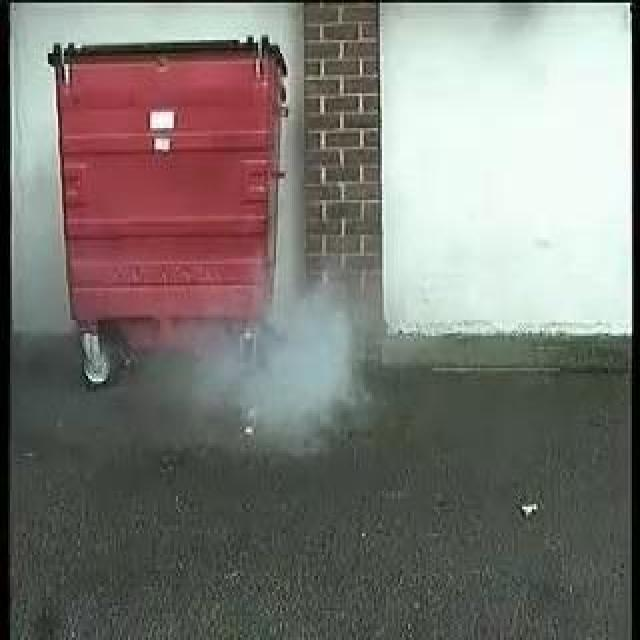Smoke: (196, 293, 358, 432)
